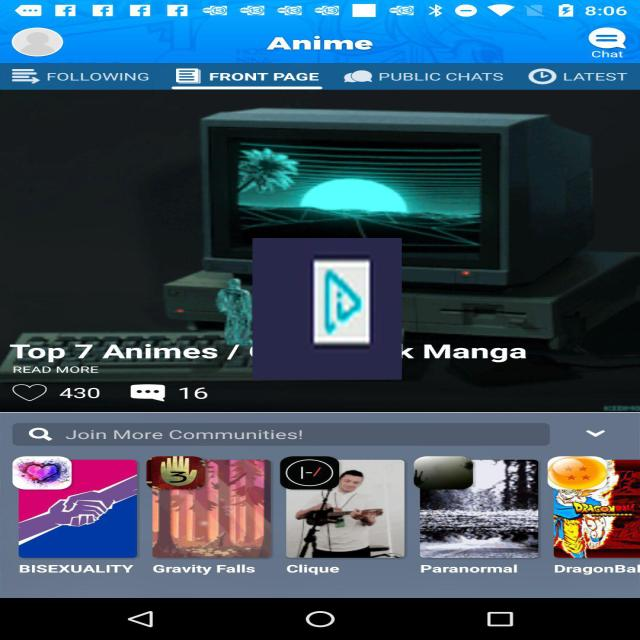sneaking: (252, 238, 402, 380)
